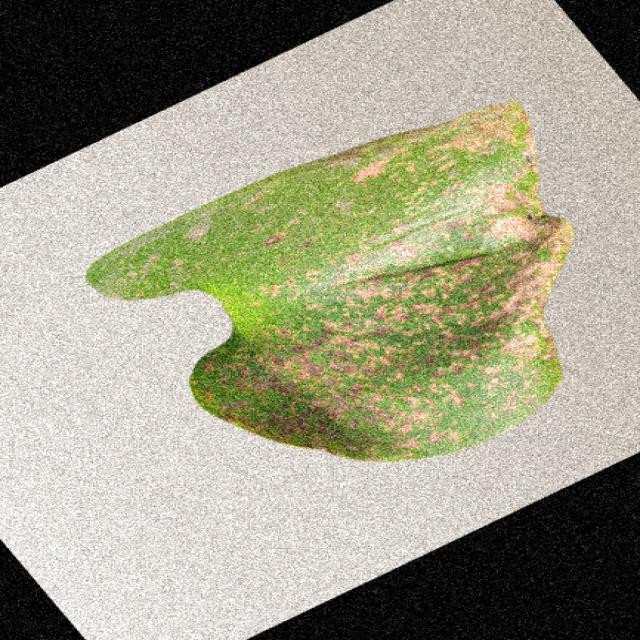daun berpenyakit bercak: (87, 101, 573, 461)
